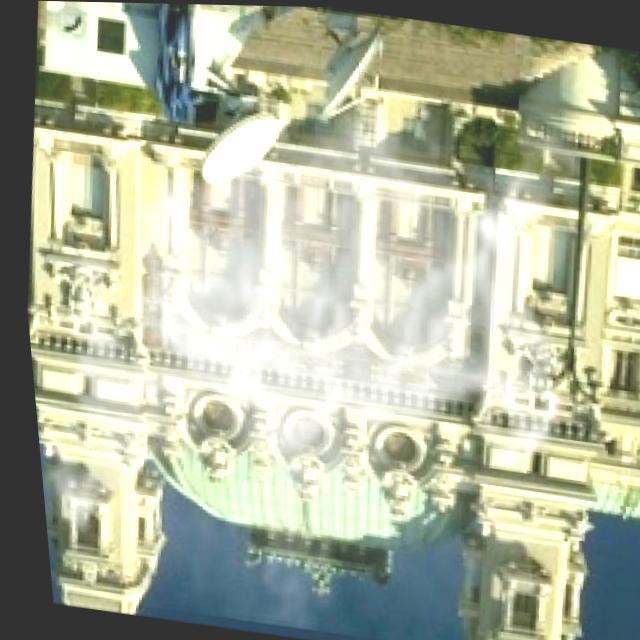Smoke: (24, 29, 579, 640)
